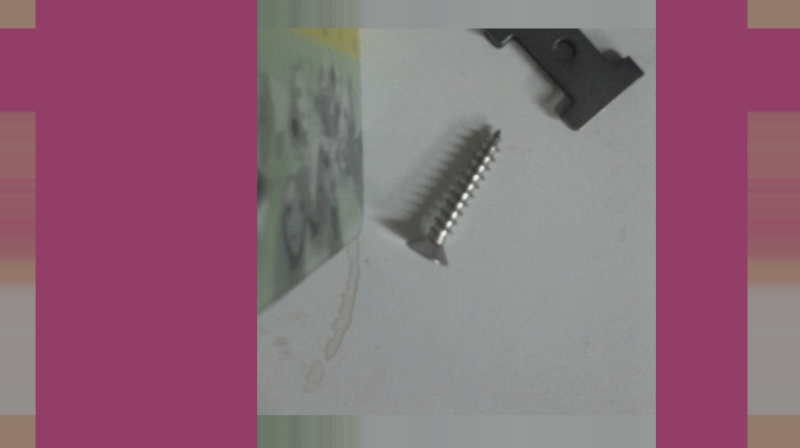O002: (479, 0, 645, 135)
S001: (399, 118, 504, 272)
